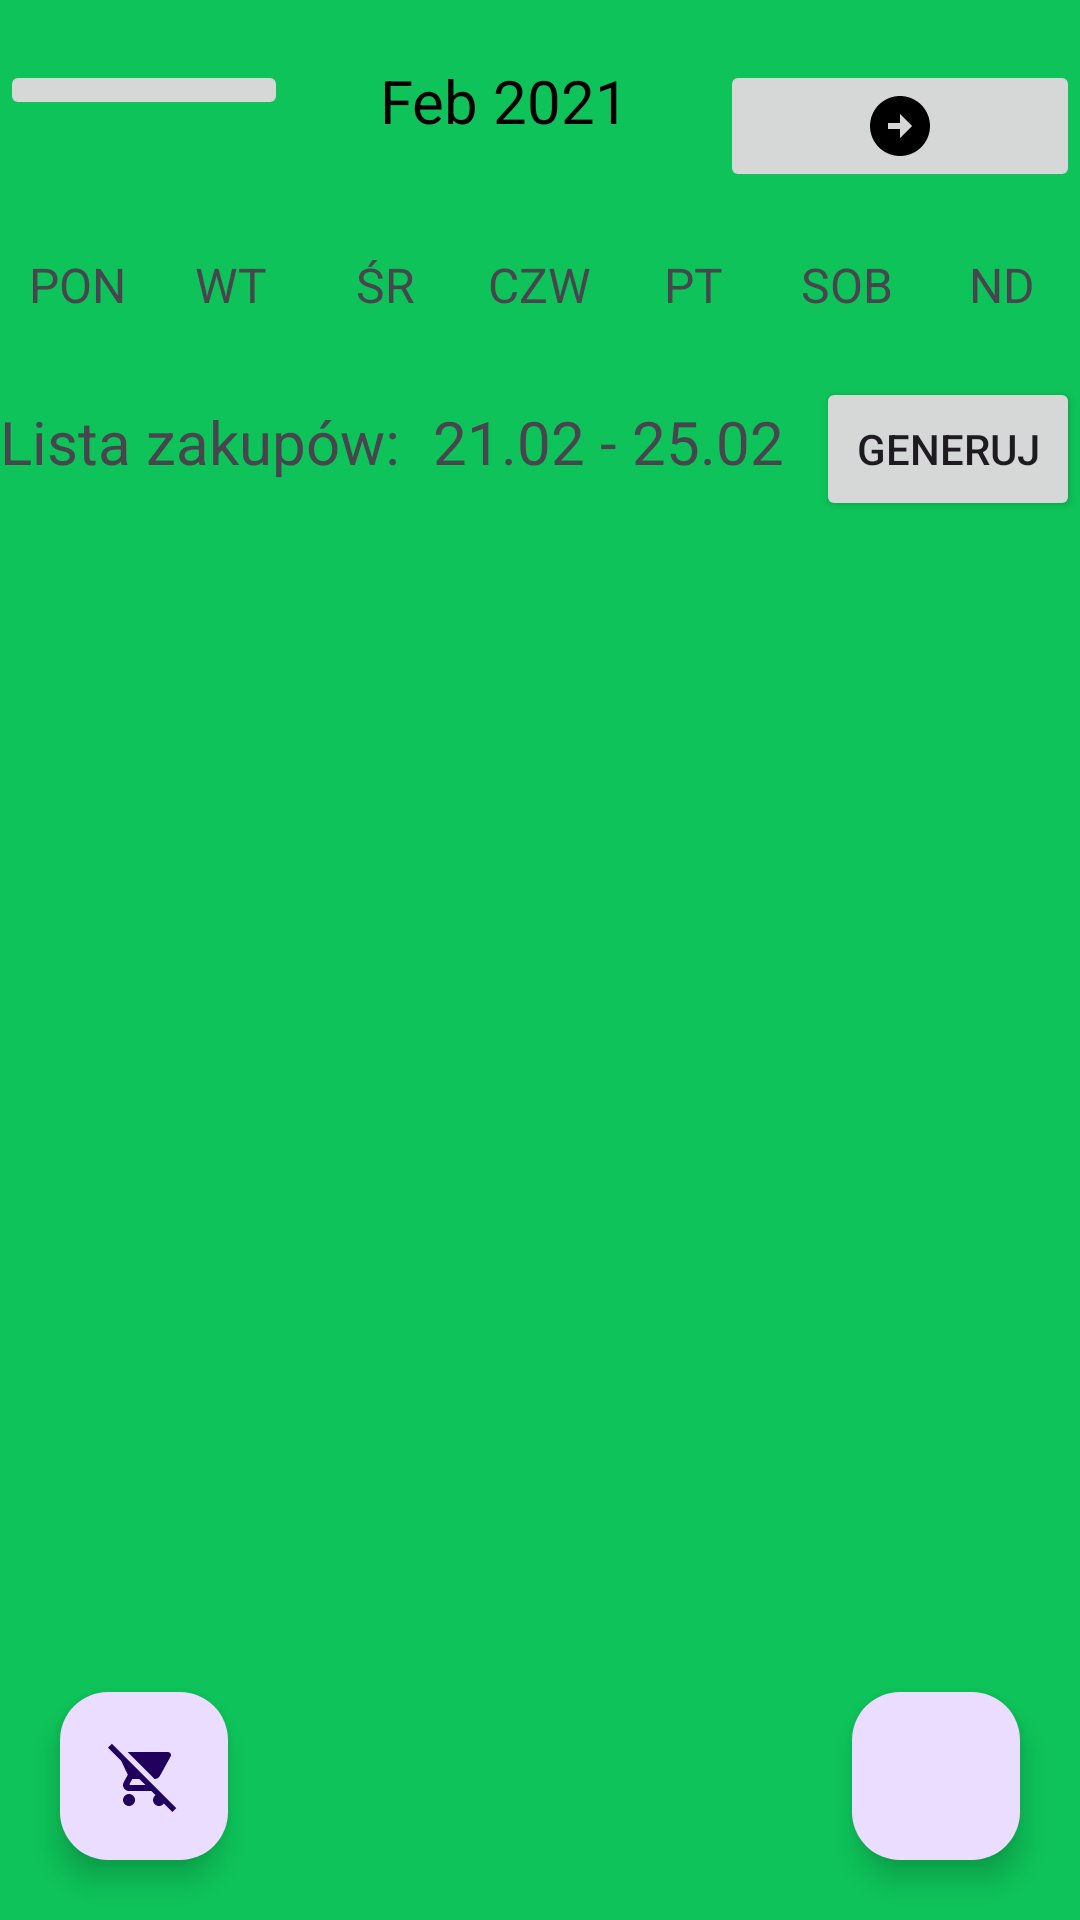

Named icons in this screenshot (1080px×1920px) and their centers, (x=x, y=y):
clear shopping cart: (x=144, y=1776)
right: (x=900, y=126)
